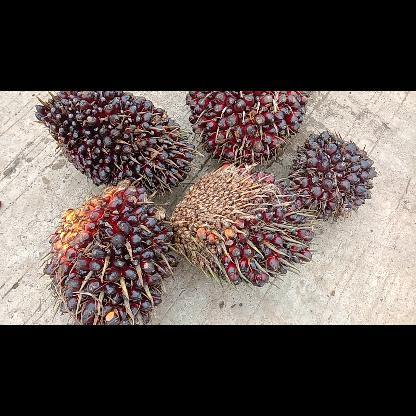TBS mentah: (40, 180, 173, 324), (170, 163, 320, 289), (33, 92, 196, 194), (186, 91, 308, 165), (286, 130, 376, 220)
